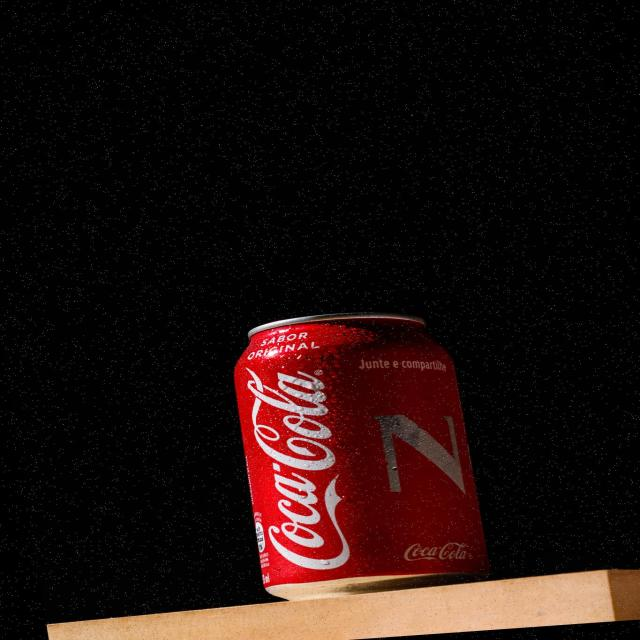coca-cola: (233, 350, 380, 579)
